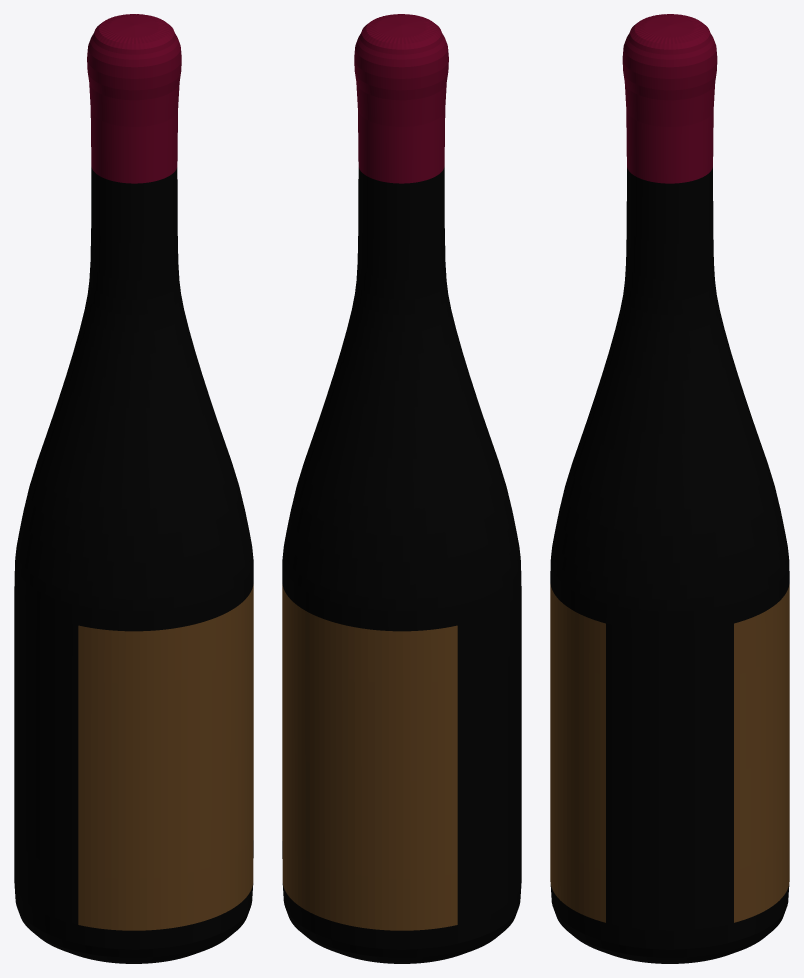
File: wineBottle.fbx
3 renders of one model, left to right at view 1: azimuth 30°, elevation 25°; view 2: azimuth 150°, elevation 25°; view 3: azimuth 270°, elevation 25°, orthographic.
Parts seen in each view (by area): view 1: Cylinder; view 2: Cylinder; view 3: Cylinder.
Boxes of the visible parts, left/top/right/bottom form: Cylinder: left=14, top=14, right=253, bottom=963; Cylinder: left=282, top=14, right=521, bottom=963; Cylinder: left=550, top=14, right=789, bottom=963.
Size of the model in its own units: 75.86 by 318 by 75.82.
